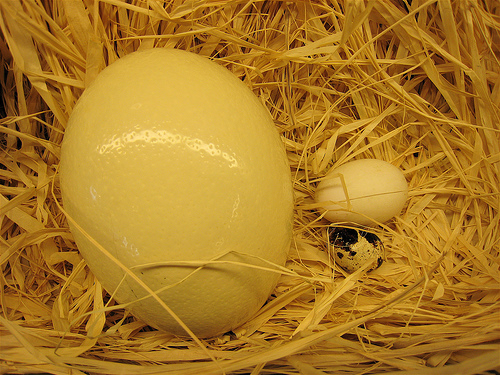egg: (58, 47, 293, 340), (317, 159, 408, 224)
